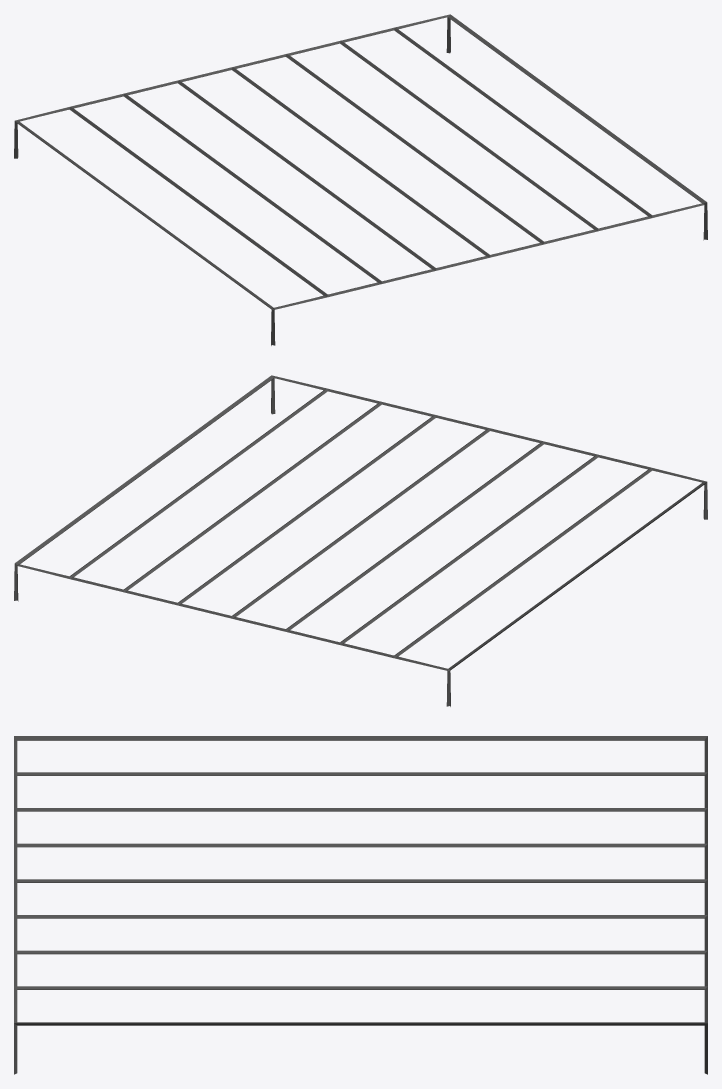
The model's file is tel.fbx.
3 views of the same model, one above another, from view 1: azimuth 30°, elevation 25°; view 2: azimuth 150°, elevation 25°; view 3: azimuth 270°, elevation 25° (orthographic). The views are drawn at different scales.
Parts seen in each view (by area): view 1: Cube.040; view 2: Cube.040; view 3: Cube.040.
Boxes of the visible parts, x1,y1,x2,y2 form: Cube.040: (14, 14, 707, 345); Cube.040: (14, 375, 707, 706); Cube.040: (14, 736, 707, 1074).
Size of the model in its own units: 46.83 by 3.91 by 47.67.
